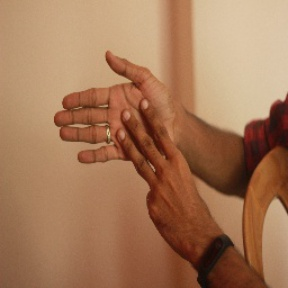M: (53, 46, 192, 198)
